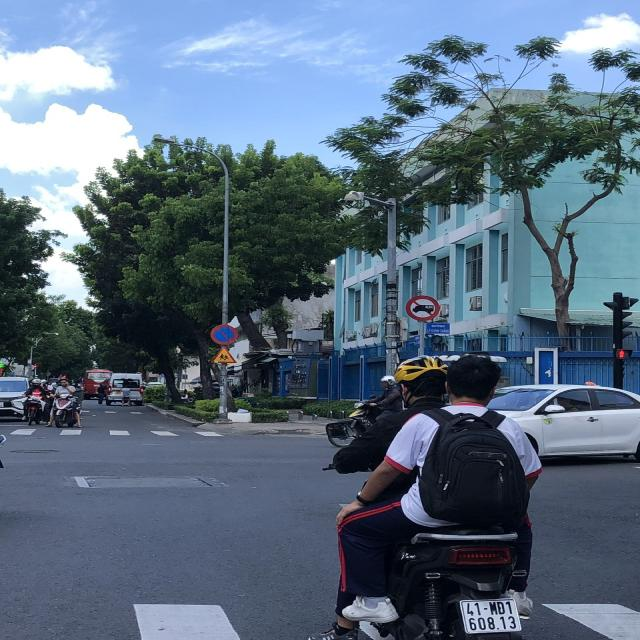Bien bao cam xe oto: (405, 292, 440, 322)
Bien bao tre em: (209, 346, 239, 365)
